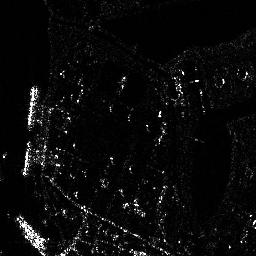ship: (17, 215, 46, 249), (26, 84, 38, 129), (22, 139, 33, 176)
